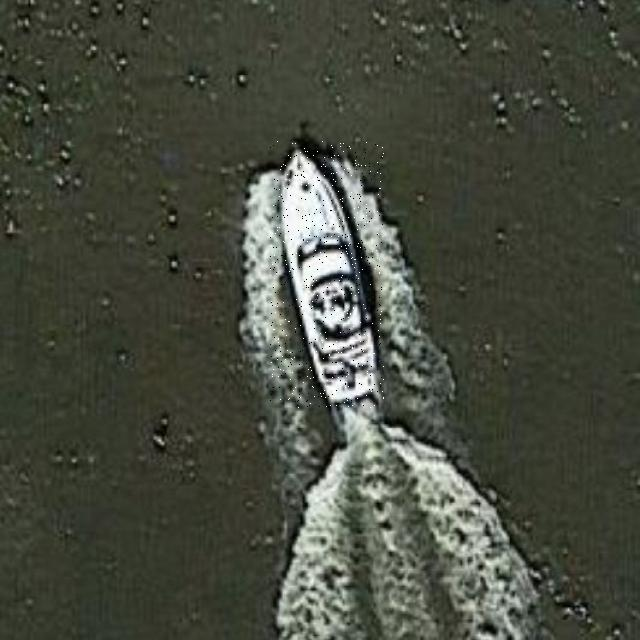boat: (270, 141, 384, 408)
